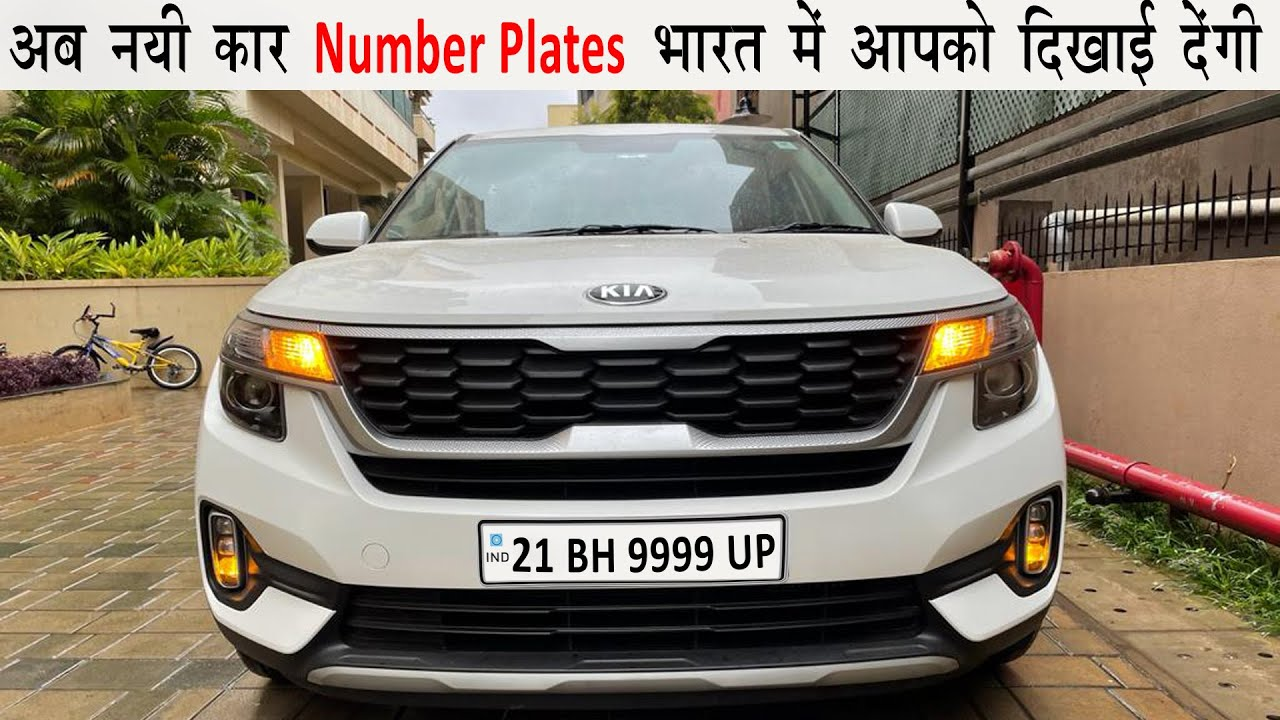number_plate: (466, 514, 794, 593)
